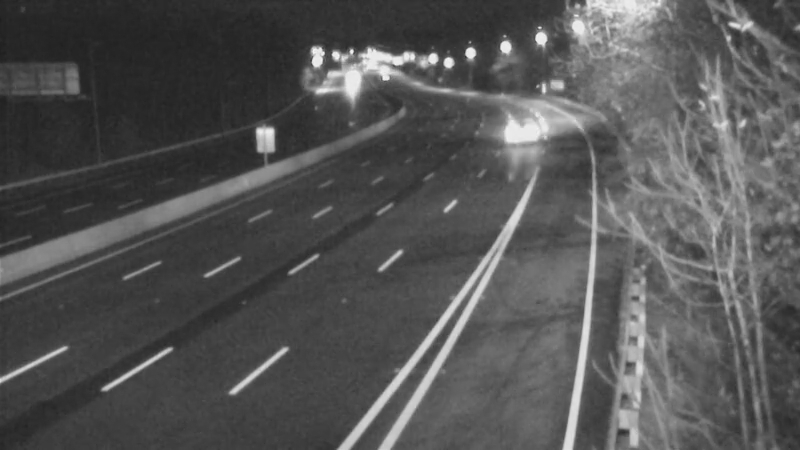vehicle: (498, 105, 548, 155), (324, 57, 374, 107)
